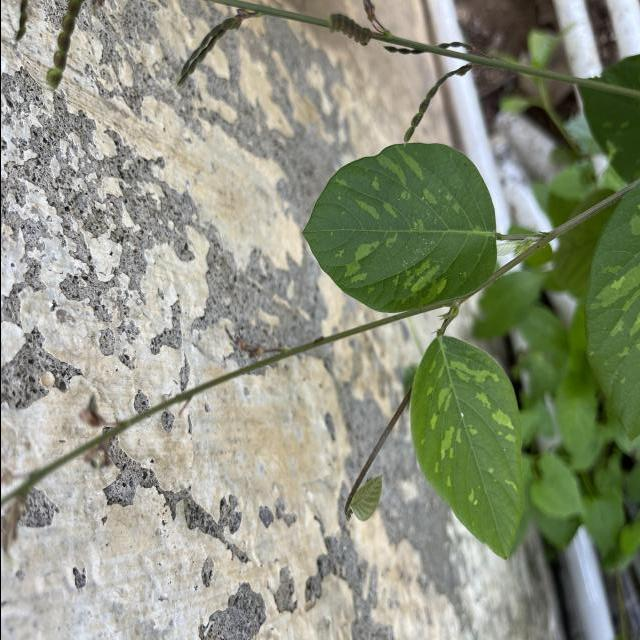Desmodium gangeticum: (297, 140, 498, 318), (406, 332, 524, 564)
